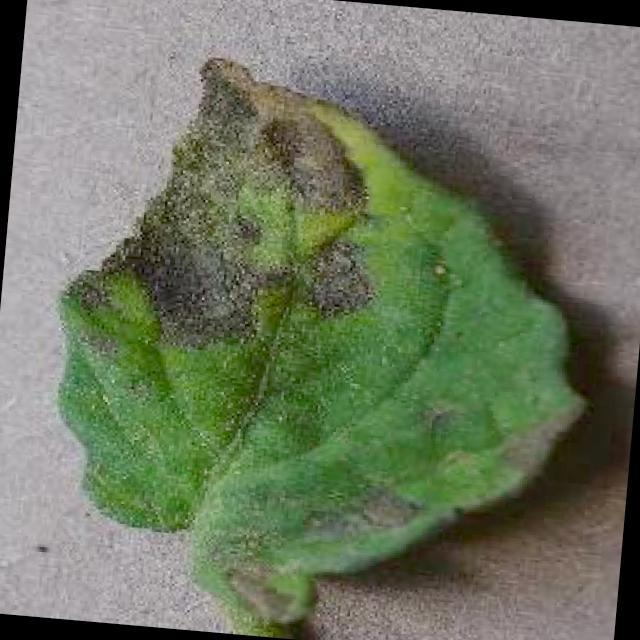Tomato Early blight leaf: (28, 39, 603, 640)
